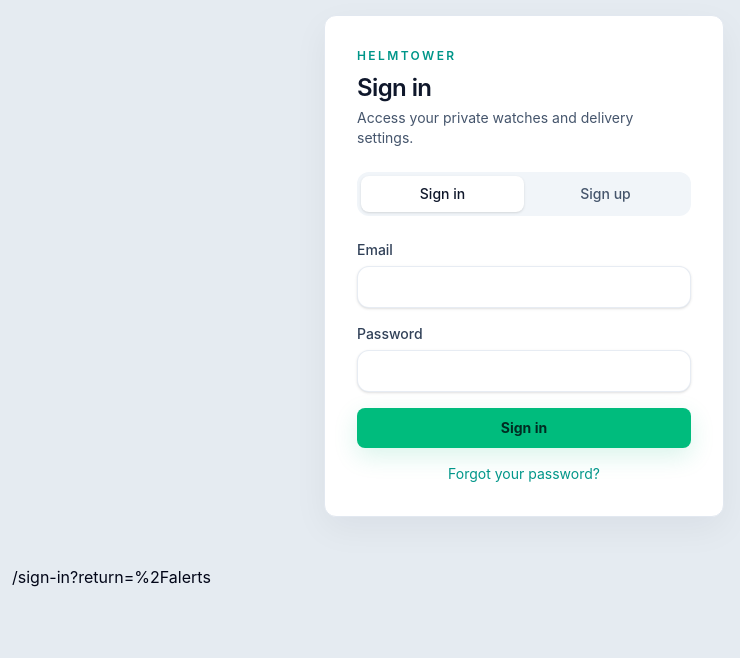
Scenario: SignIn return navigation › stays on sign-in with a generic error when login detail is a FastAPI 422 list
Type "user@example.com" into the field labelled "Email".
click(524, 287); type("user@example.com")  # box [357,266,691,308]
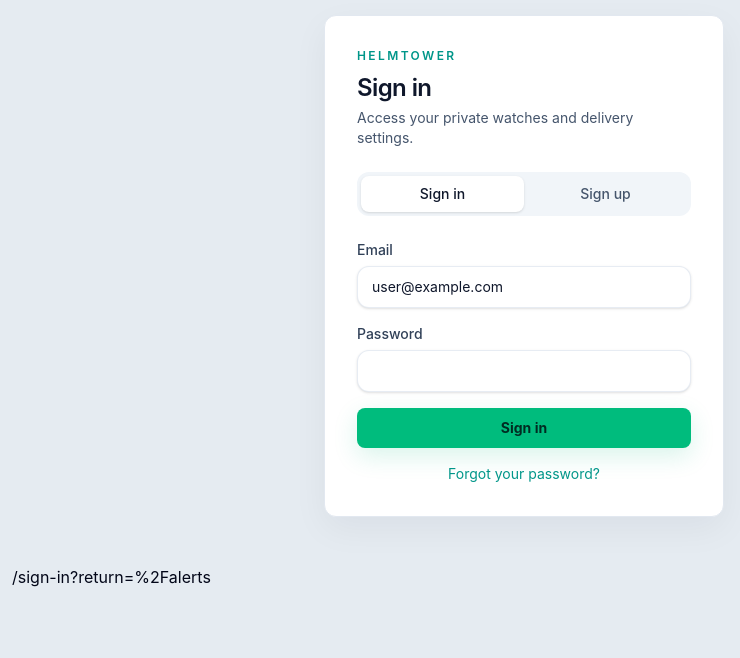
Type "password123" into the password field labelled "Password".
click(524, 371); type("password123")  # box [357,350,691,392]
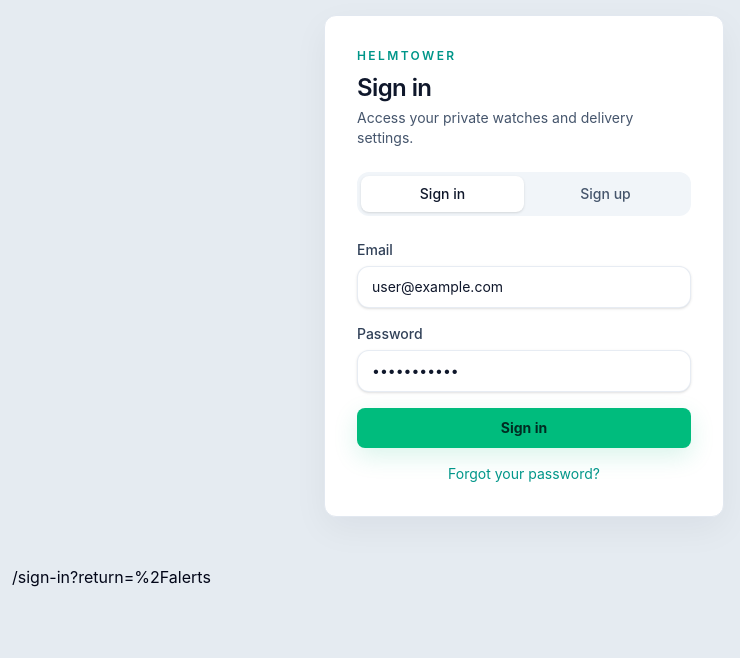
Submit the form named "Authentication form", box [357,240,691,484]
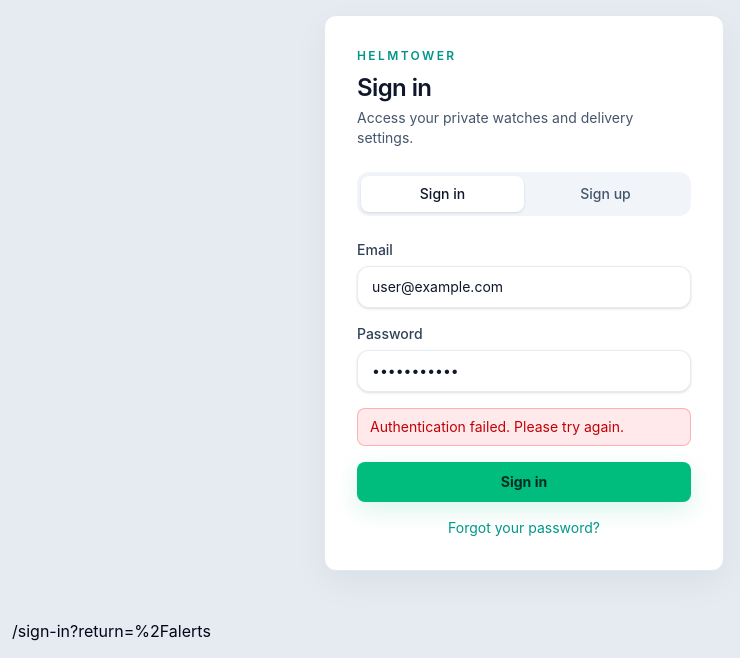
Check: the text with test id "location" reads "/sign-in?return=%2Falerts", box [12,621,211,641]
Check: the text "Authentication failed. Please try again." is shown, box [357,408,691,446]
